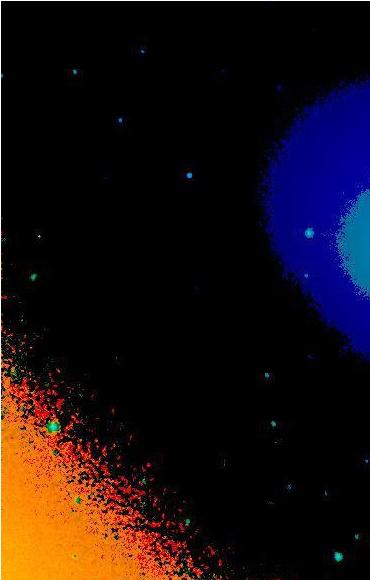star: (26, 222, 56, 252)
